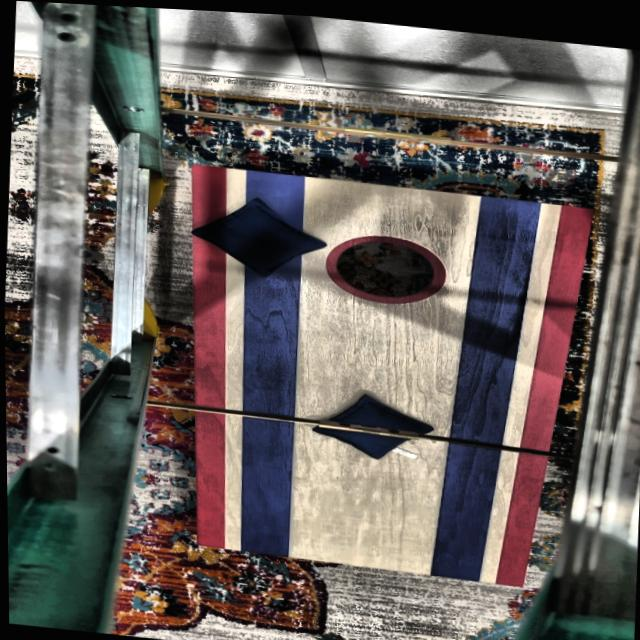blue-bean-bag: (187, 189, 327, 278), (311, 384, 433, 459)
board: (193, 165, 541, 573)
hole: (322, 225, 449, 305)
